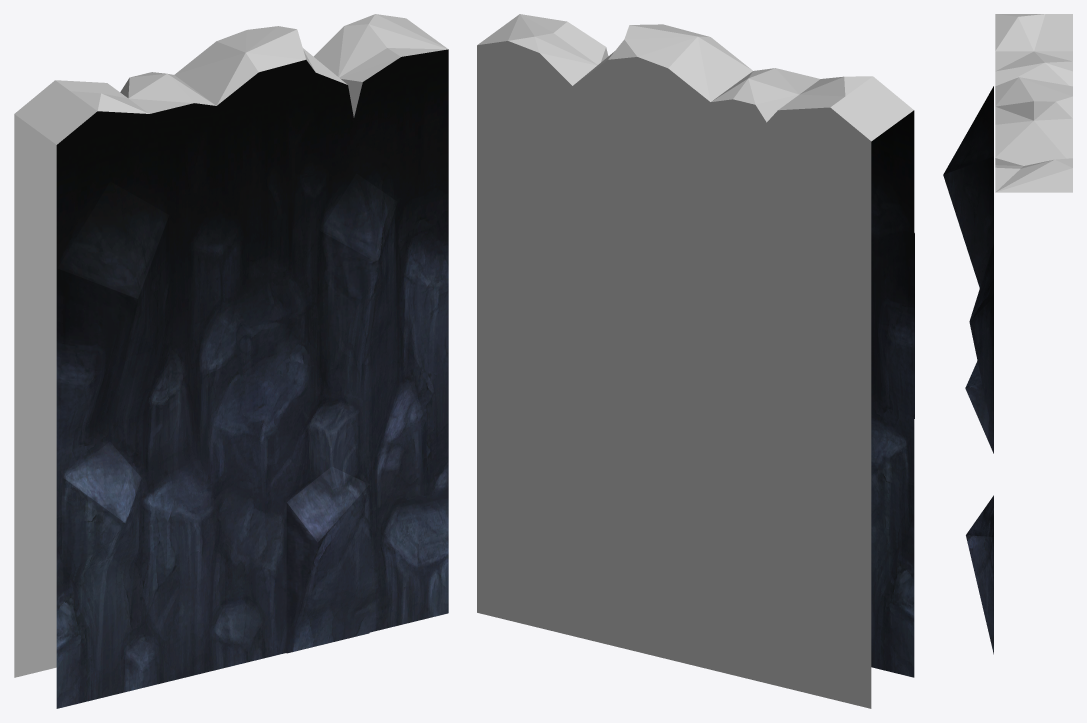
The model's file is mine_fade_straight_02.fbx.
3 renders of one model, left to right at view 1: azimuth 30°, elevation 25°; view 2: azimuth 150°, elevation 25°; view 3: azimuth 270°, elevation 25°, orthographic. The views are drawn at different scales.
Visible parts, largest first — view 1: mine_fade_straight_02-0; view 2: mine_fade_straight_02-0; view 3: mine_fade_straight_02-0.
Boxes of the visible parts, left/top/right/bottom form: mine_fade_straight_02-0: left=14, top=14, right=448, bottom=708; mine_fade_straight_02-0: left=477, top=14, right=914, bottom=708; mine_fade_straight_02-0: left=943, top=14, right=1072, bottom=654.
Size of the model in its own units: 4 by 5.85 by 1.25.
